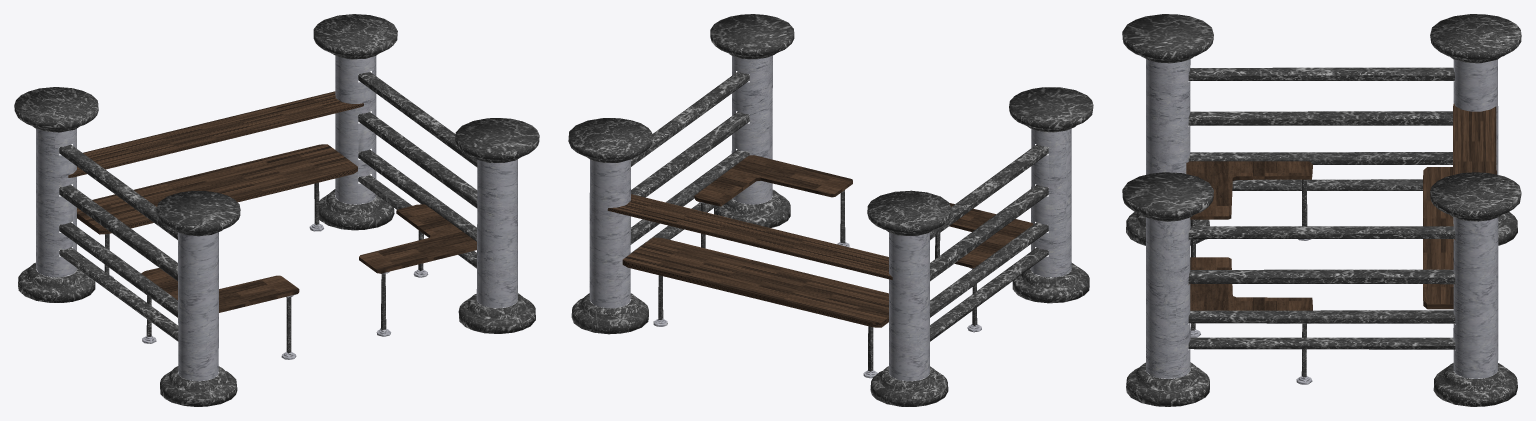
File: arashi-template.glb
3 renders of one model, left to right at view 1: azimuth 30°, elevation 25°; view 2: azimuth 150°, elevation 25°; view 3: azimuth 270°, elevation 25°, orthographic. The views are drawn at different scales.
Parts seen in each view (by area): view 1: Arashi Marble Booth; view 2: Arashi Marble Booth; view 3: Arashi Marble Booth.
Part boxes in pixels (left/top/right/bottom): Arashi Marble Booth: left=14, top=14, right=539, bottom=406; Arashi Marble Booth: left=568, top=14, right=1093, bottom=406; Arashi Marble Booth: left=1122, top=14, right=1521, bottom=406.
Size of the model in its own units: 12.36 by 5.78 by 10.59.
Materials: 1 (1 with a texture image).
